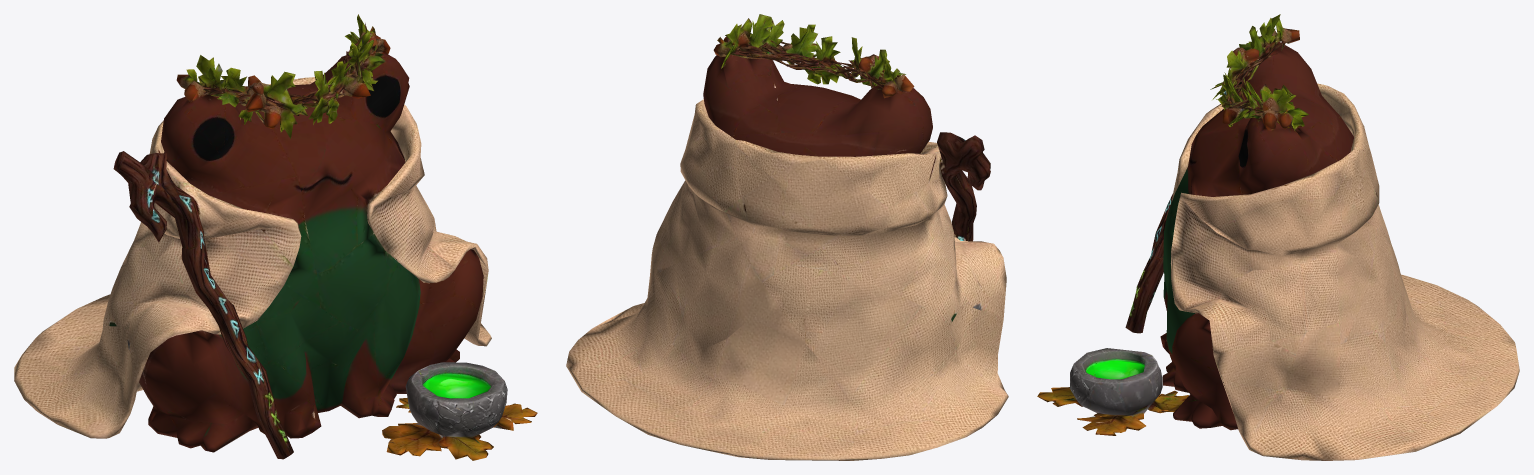
The model's file is druide.glb.
3 views of the same model, side by side, from view 1: azimuth 30°, elevation 25°; view 2: azimuth 150°, elevation 25°; view 3: azimuth 270°, elevation 25° (orthographic). The views are drawn at different scales.
Visible parts, largest first — view 1: mesh_node; view 2: mesh_node; view 3: mesh_node.
Part boxes in pixels (left/top/right/bottom): mesh_node: left=14, top=14, right=537, bottom=460; mesh_node: left=566, top=14, right=1008, bottom=460; mesh_node: left=1037, top=14, right=1519, bottom=460.
Size of the model in its own units: 1.78 by 1.38 by 1.9.
1 material, 1 textured.
